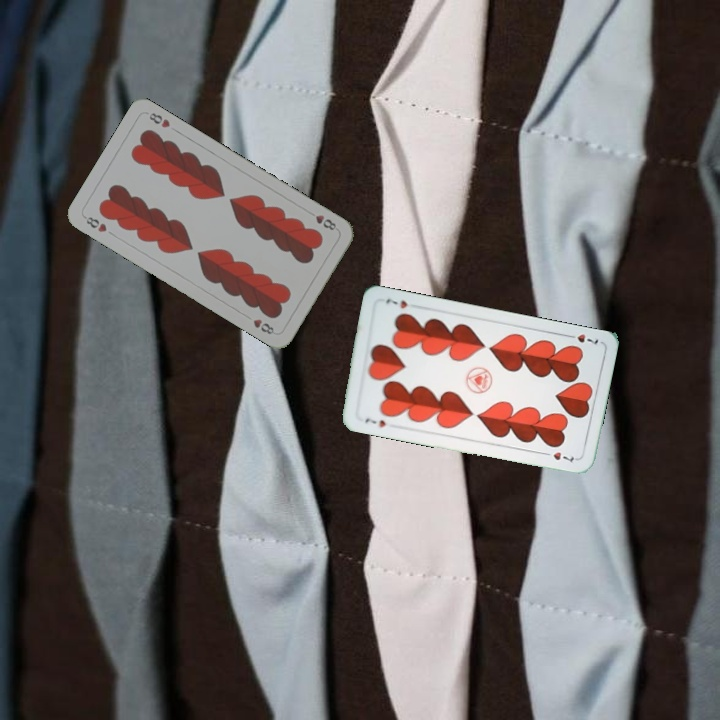H7: (562, 330, 601, 347), (361, 414, 388, 430)
H8: (304, 207, 339, 233), (80, 212, 109, 235)
